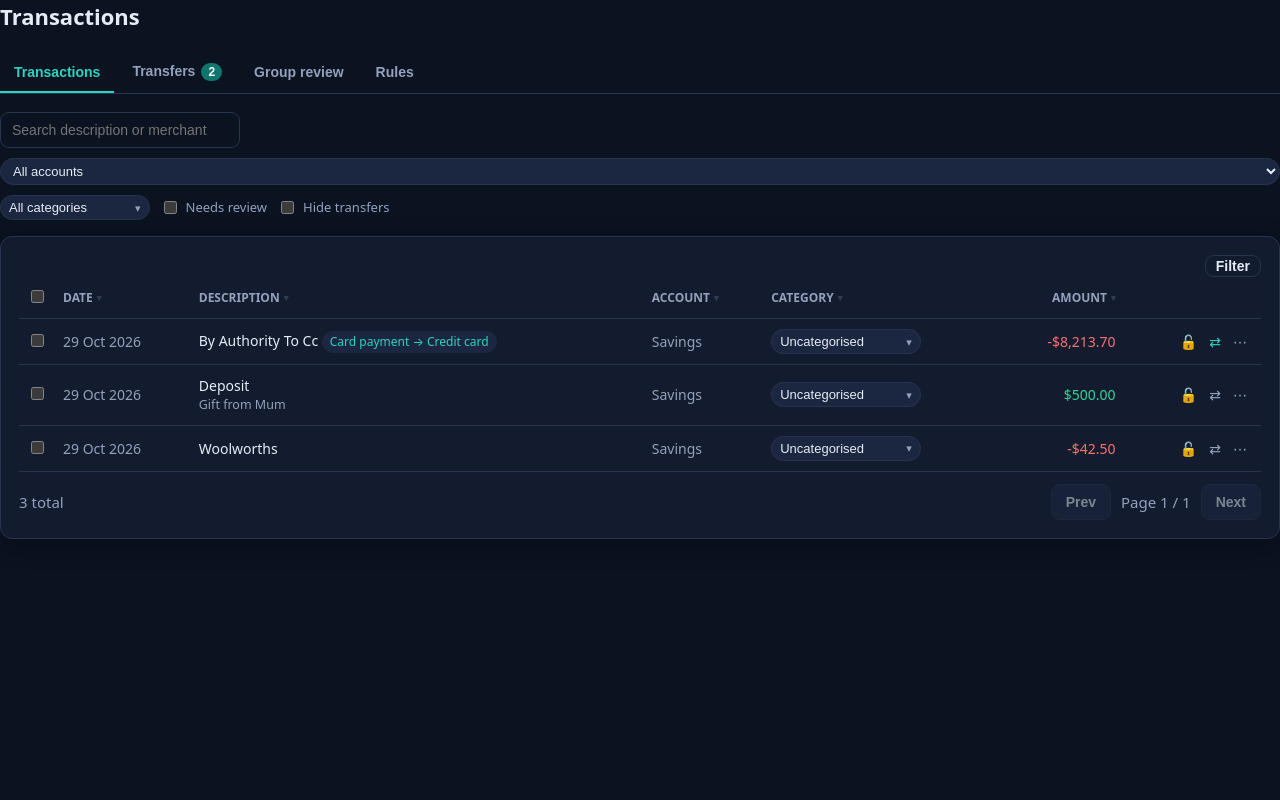
Test: Transactions: the ⋯ window › says in the window when a save was refused, and keeps the choices
Expected: the row "29 Oct 2026 Woolworths Savings ▾ -$42.50 🔓 ⇄ ⋯" is shown, left=19, top=425, right=1261, bottom=471
What coordinates should you click on to do the following:
click the button named "More actions"
I would click on:
 (1240, 449)
Its box is left=1227, top=439, right=1253, bottom=459.
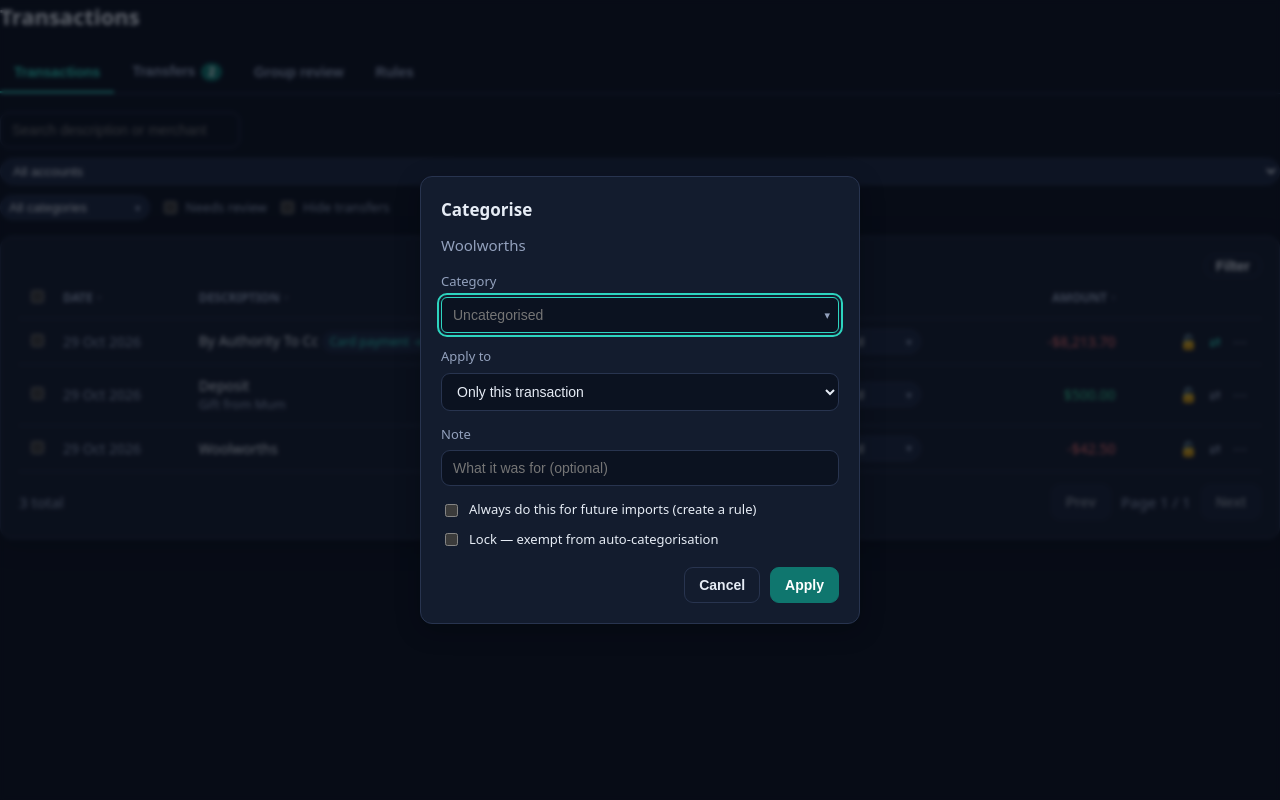
What coordinates should you click on to do the following:
click the checkbox labelled "Lock — exempt from auto-categorisation"
I would click on:
 (452, 540)
Its box is left=445, top=533, right=458, bottom=546.
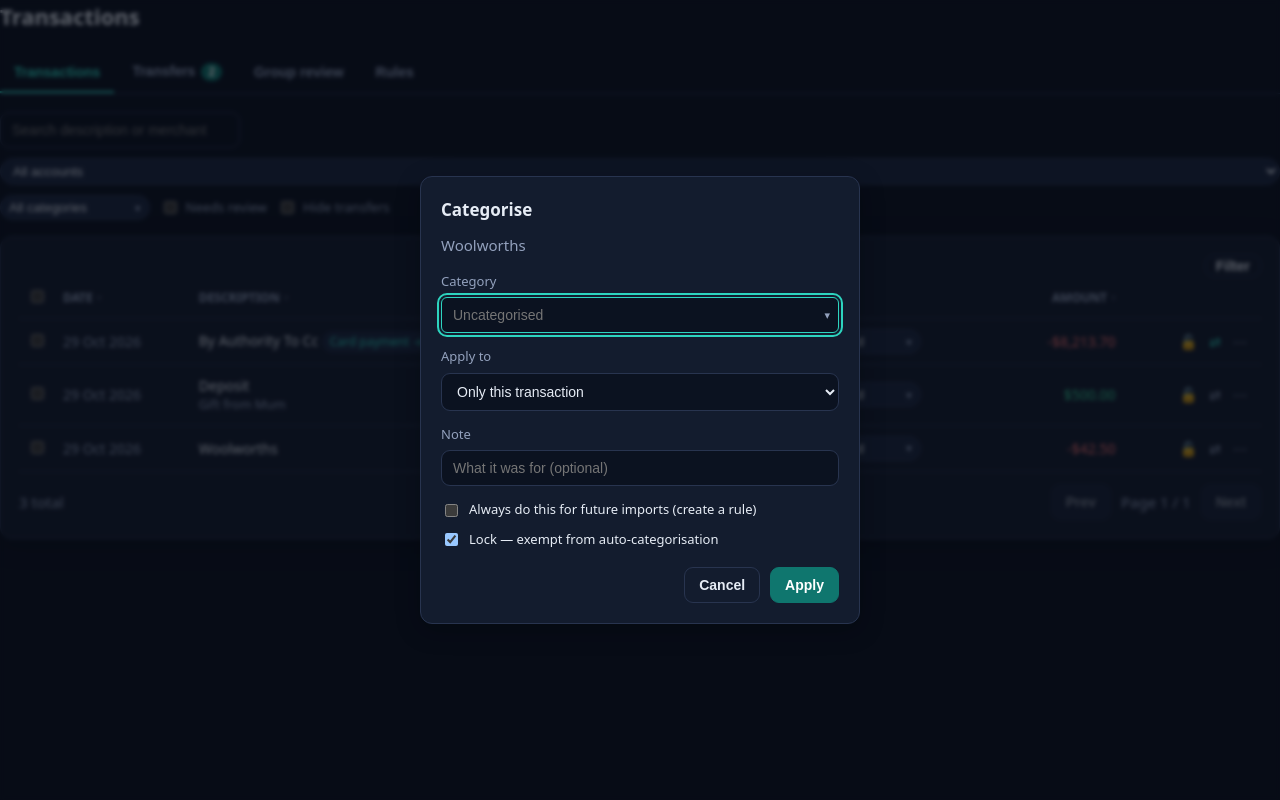
What coordinates should you click on to do the following:
click the button "Apply"
I would click on:
 (805, 585)
Its box is left=770, top=567, right=839, bottom=603.
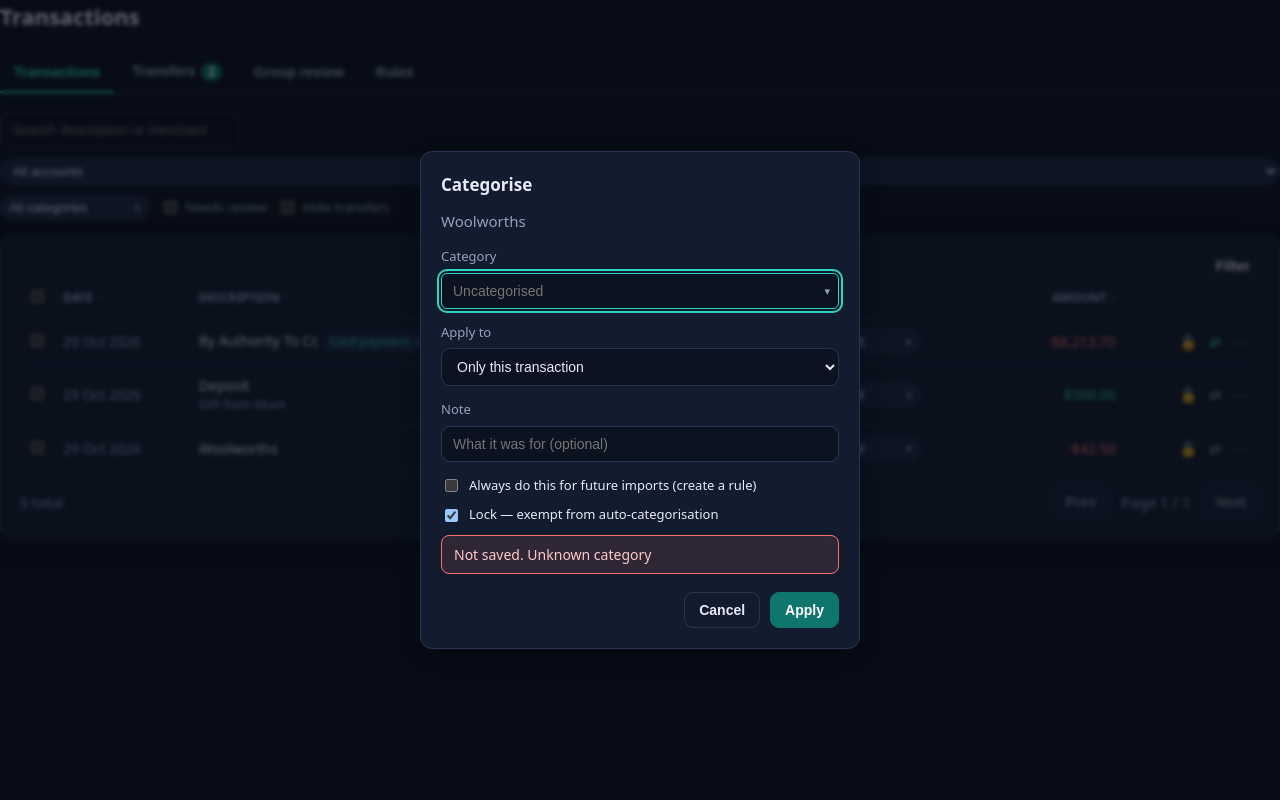
Expected: the checkbox labelled "Lock — exempt from auto-categorisation" is checked, left=445, top=508, right=458, bottom=522
Expected: the message reads "Not saved. Unknown category", left=454, top=545, right=651, bottom=564
